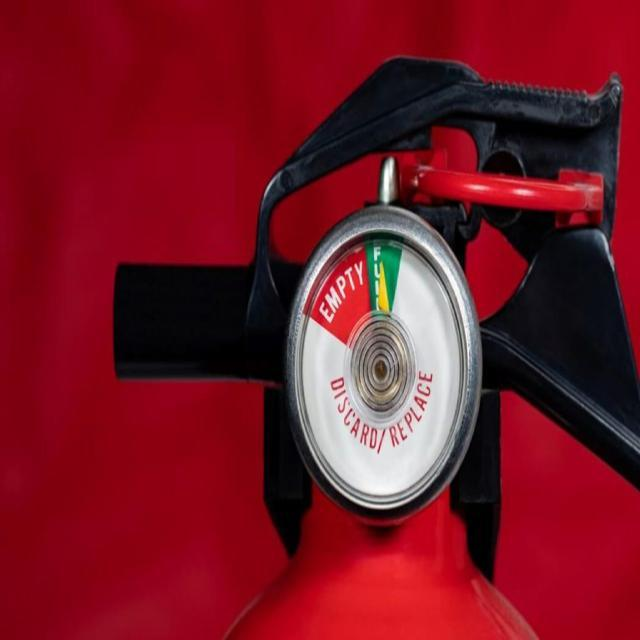pressure gauge: (285, 199, 480, 521)
